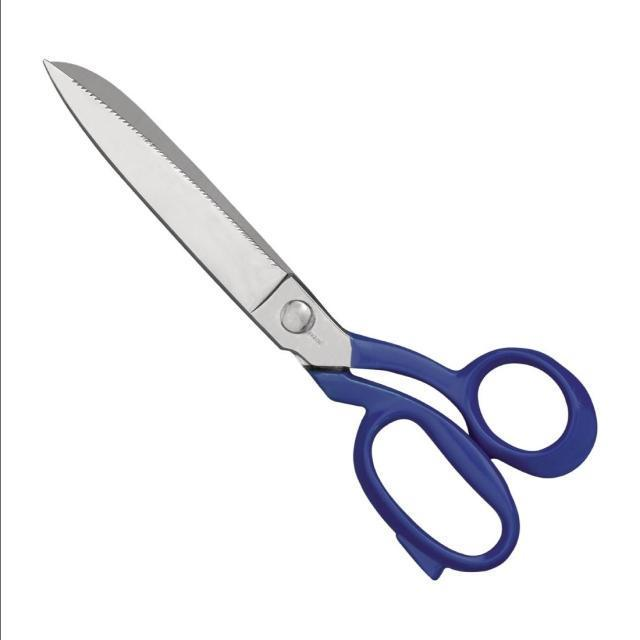scissor: (42, 51, 602, 588)
